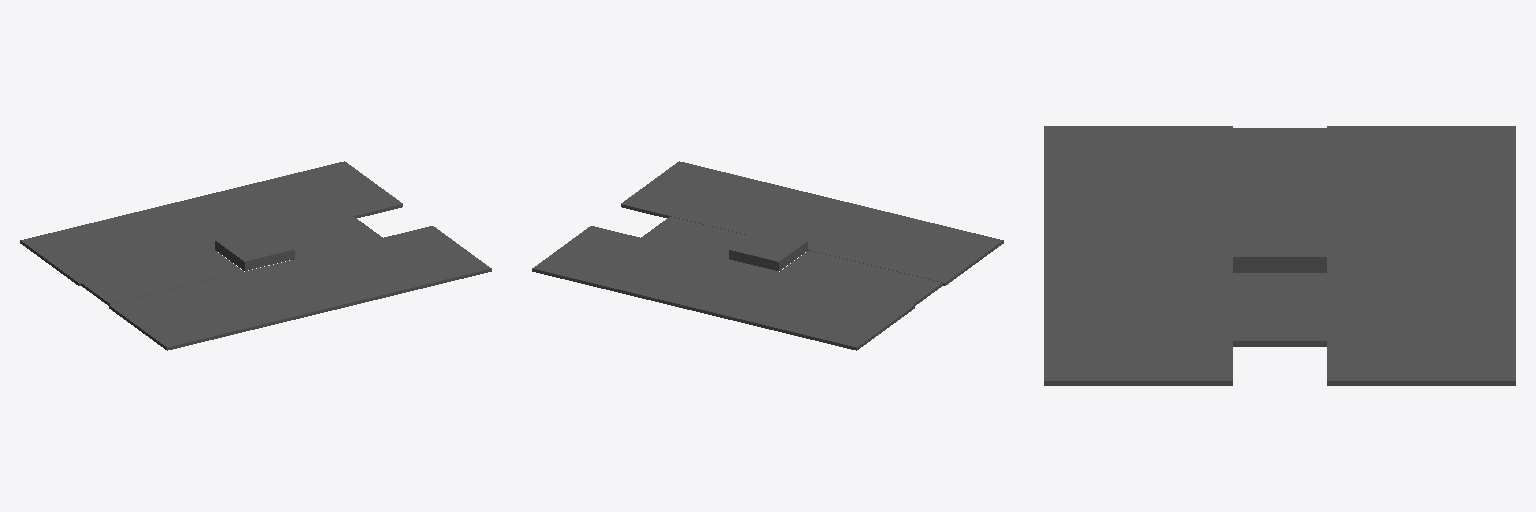
robot.urdf — lab_scene:
<?xml version="1.0" ?>
<robot name="lab_scene" xmlns:xacro="http://ros.org/wiki/xacro">
  <link name="base_link">
    <inertial>
      <mass value="200" />
      <inertia ixx="1.0" ixy="0.0" ixz="0.0" iyy="1.0" iyz="0.0" izz="1.0" />
    </inertial>
    <visual>
      <origin rpy="0 0 0" xyz="0 0 0"/>
      <geometry>
        <mesh filename="package://meshes/step_20cm.stl"/>
      </geometry>
      <material name="">
        <color rgba="0.4 0.4 0.4 1.0"/>
      </material>
    </visual>
    <collision concave="yes">
      <origin rpy="0 0 0" xyz="0 0 0"/>
      <geometry>
        <mesh filename="package://meshes/step_20cm.stl"/>
      </geometry>
    </collision>
  </link>
  <gazebo>
    <static>1</static>
  </gazebo>
</robot>

--- Facts derived from the render (not from the file) ---
The picture shows the robot from 3 angles, left to right: view 1: azimuth 30°, elevation 25°; view 2: azimuth 150°, elevation 25°; view 3: azimuth 270°, elevation 25°; orthographic projection.
Robot: lab_scene — 1 links, 0 joints (none); root link base_link; default pose: every joint at zero.
Links seen in each view (by area): view 1: base_link; view 2: base_link; view 3: base_link.
Link boxes in pixels (left/top/right/bottom): base_link: left=20, top=161, right=491, bottom=350; base_link: left=532, top=161, right=1003, bottom=350; base_link: left=1044, top=126, right=1515, bottom=385.
Size in the robot's own frame: 6.4 by 5.01 by 0.2401 metres.
Meshes: 1 distinct files referenced, 1 mesh visuals loaded (1 binary STL).